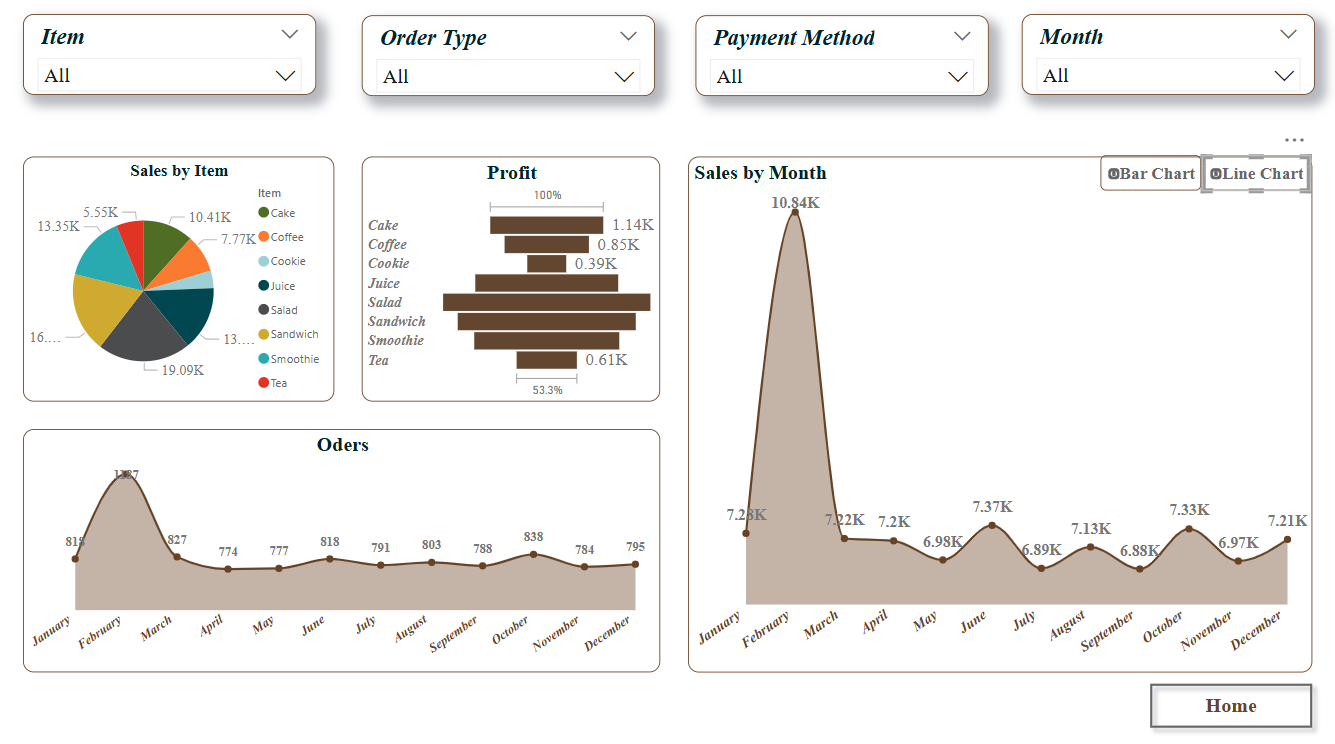

What the dashboard file says about the page in this screenshot:
{"tool":"powerbi","page":{"name":"Charts","canvas":[1280,720],"ordinal":1},"visuals":[{"type":"areaChart","fields":{"Category":["cleaned_transactions.Transaction Date.Variation.Date Hierarchy.Month","cleaned_transactions.Transaction Date.Variation.Date Hierarchy.Day"],"Y":["Sum(cleaned_transactions.Total Spent)"]},"box":[670,160,580.4,480],"z":1000},{"type":"slicer","fields":{"Values":["cleaned_transactions.Transaction Date.Variation.Date Hierarchy.Month"]},"box":[979.8,27.4,273.1,75.5],"z":2000},{"type":"slicer","fields":{"Values":["cleaned_transactions.Location"]},"box":[366.4,28.8,273.1,75.5],"z":3000},{"type":"slicer","fields":{"Values":["cleaned_transactions.Item"]},"box":[50.8,27.4,273.1,75.5],"z":4000},{"type":"slicer","fields":{"Values":["cleaned_transactions.Payment Method"]},"box":[676.5,28.8,273.1,75.5],"z":5000},{"type":"actionButton","box":[1054,159.8,93.9,33],"z":6000},{"type":"actionButton","box":[1147.9,159.8,101.5,33],"z":7000},{"type":"pieChart","fields":{"Category":["cleaned_transactions.Item"],"Y":["Sum(cleaned_transactions.Total Spent)"]},"box":[51.2,160.5,289.5,227.9],"z":8000},{"type":"funnel","title":"Profit","fields":{"Category":["cleaned_transactions.Item"],"Y":["Sum(cleaned_transactions.Profit)"]},"box":[366.3,160.5,277.9,227.9],"z":9000},{"type":"areaChart","title":"Oders","fields":{"Category":["cleaned_transactions.Transaction Date.Variation.Date Hierarchy.Month","cleaned_transactions.Transaction Date.Variation.Date Hierarchy.Day"],"Y":["CountNonNull(cleaned_transactions.Transaction ID)"]},"box":[51.2,414,593,226.7],"z":10000},{"type":"actionButton","box":[1090.9,642.2,168.8,59],"z":11000}]}

Visuals, with their boxes in screenshot pixels (x1, y1, x2, y2), scaled from the page's 1280x720 canvas onto the 1335x744 screenshot:
areaChart - cleaned_transactions.Transaction Date.Variation.Date Hierarchy.Month x cleaned_transactions.Transaction Date.Variation.Date Hierarchy.Day: <region>699, 165, 1304, 661</region>
slicer - cleaned_transactions.Transaction Date.Variation.Date Hierarchy.Month: <region>1022, 28, 1307, 106</region>
slicer - cleaned_transactions.Location: <region>382, 30, 667, 108</region>
slicer - cleaned_transactions.Item: <region>53, 28, 338, 106</region>
slicer - cleaned_transactions.Payment Method: <region>706, 30, 990, 108</region>
actionButton: <region>1099, 165, 1197, 199</region>
actionButton: <region>1197, 165, 1303, 199</region>
pieChart - cleaned_transactions.Item x Sum(cleaned_transactions.Total Spent): <region>53, 166, 355, 401</region>
"Profit" funnel: <region>382, 166, 672, 401</region>
"Oders" areaChart: <region>53, 428, 672, 662</region>
actionButton: <region>1138, 664, 1314, 725</region>
